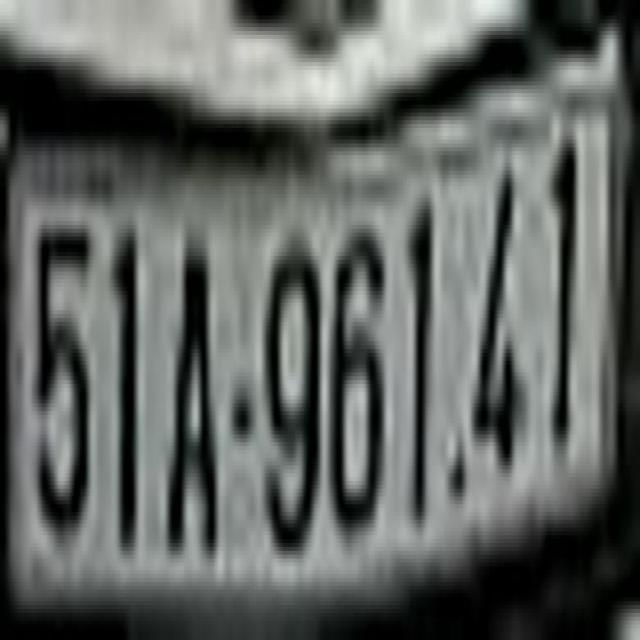1: (549, 89, 582, 458), (402, 182, 437, 520), (111, 198, 141, 566)
4: (458, 151, 525, 485)
5: (36, 210, 94, 554)
6: (329, 190, 388, 524)
9: (264, 229, 318, 562)
A: (164, 240, 218, 547)
